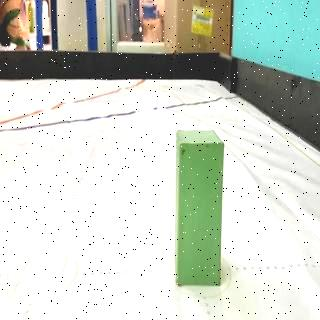greenbox: (174, 130, 226, 288)
